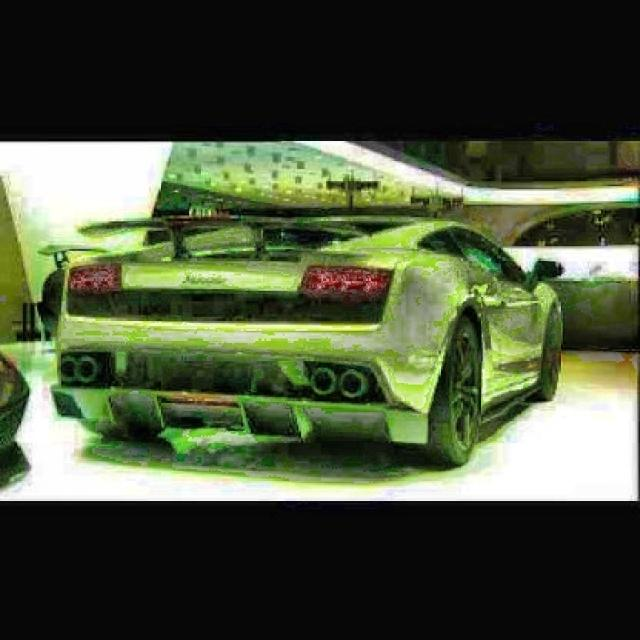green: (51, 214, 562, 466)
